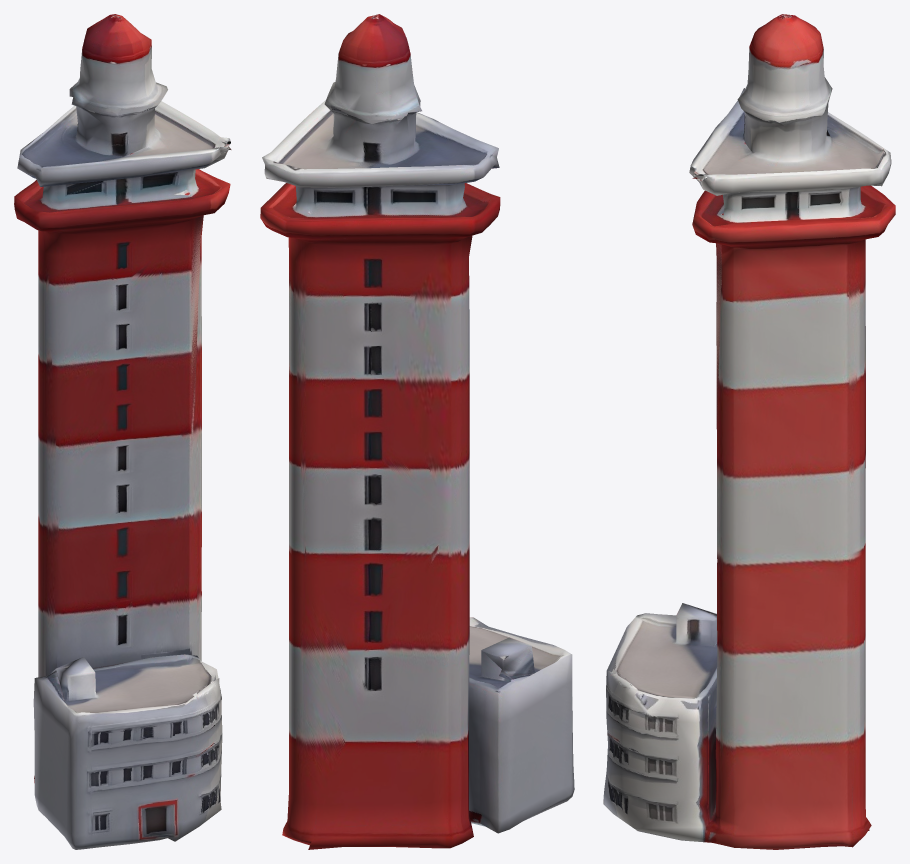
The model's file is chennai_lighthouse.glb.
The picture shows the model from 3 angles, left to right: view 1: azimuth 30°, elevation 25°; view 2: azimuth 150°, elevation 25°; view 3: azimuth 270°, elevation 25°; orthographic projection. The views are drawn at different scales.
Parts seen in each view (by area): view 1: tripo_node_59cce229-b521-4389-8750-640e95d54b69; view 2: tripo_node_59cce229-b521-4389-8750-640e95d54b69; view 3: tripo_node_59cce229-b521-4389-8750-640e95d54b69.
Part boxes in pixels (x1,y1,x2,y2): tripo_node_59cce229-b521-4389-8750-640e95d54b69: (14,14,231,849); tripo_node_59cce229-b521-4389-8750-640e95d54b69: (260,14,574,849); tripo_node_59cce229-b521-4389-8750-640e95d54b69: (603,14,895,849).
Size of the model in its own units: 0.2511 by 0.9415 by 0.3106.
1 material, 1 textured.
